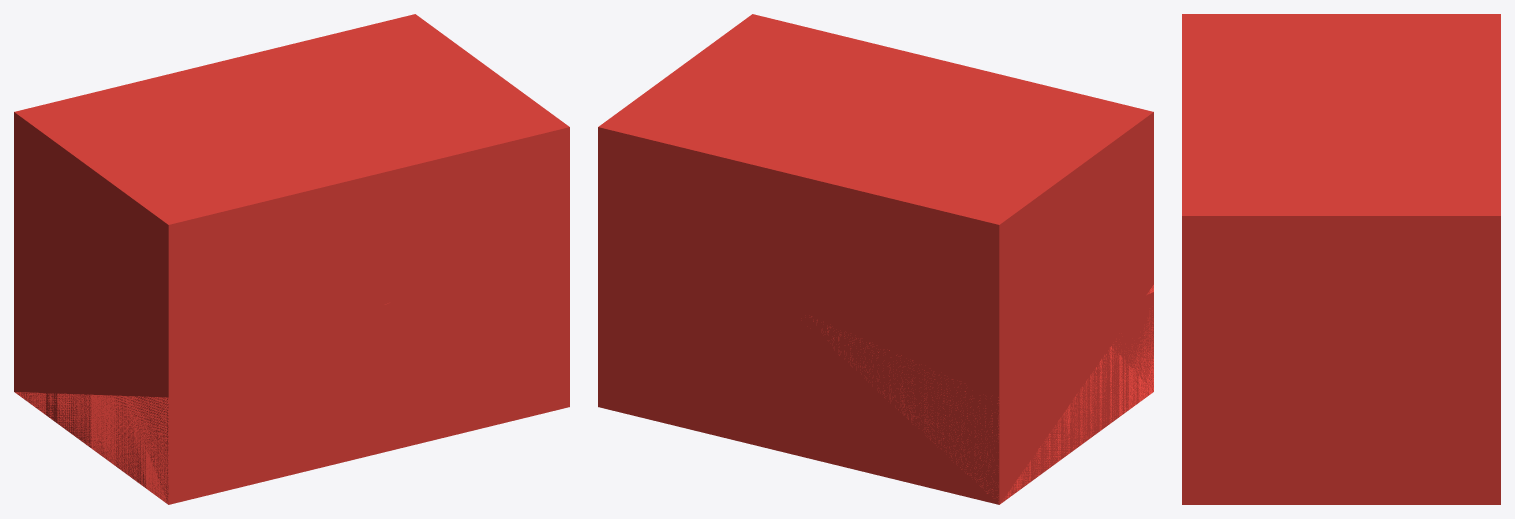
Rendered from fragmented_blockL.glb.
3 renders of one model, left to right at view 1: azimuth 30°, elevation 25°; view 2: azimuth 150°, elevation 25°; view 3: azimuth 270°, elevation 25°, orthographic. The views are drawn at different scales.
Parts seen in each view (by area): view 1: blockL-hit4-Visual, blockL-hit2-Visual, blockL-ColVis.003, blockL-ColVis.005, blockL-ColVis.004, blockL-hit3-Visual, blockL-ColVis.002, blockL-ColVis.008, blockL-ColVis.001, blockL-ColVis.007, blockL-hit1-Visual, blockL-ColVis.006; view 2: blockL-hit4-Visual, blockL-hit1-Visual, blockL-ColVis.005, blockL-ColVis.004, blockL-hit2-Visual, blockL-ColVis.003, blockL-ColVis.006, blockL-ColVis.002, blockL-hit3-Visual, blockL-ColVis.007; view 3: blockL-hit4-Visual, blockL-hit1-Visual, blockL-ColVis.007, blockL-hit2-Visual, blockL-hit3-Visual, blockL-ColVis.006, blockL-ColVis.005, blockL-ColVis.004.
Part boxes in pixels (<box>): blockL-hit4-Visual: <box>14,15,569,504</box>; blockL-hit2-Visual: <box>17,16,559,395</box>; blockL-ColVis.003: <box>14,112,364,397</box>; blockL-ColVis.005: <box>191,14,569,304</box>; blockL-ColVis.004: <box>15,70,367,278</box>; blockL-hit3-Visual: <box>15,114,569,502</box>; blockL-ColVis.002: <box>15,305,382,504</box>; blockL-ColVis.008: <box>353,305,569,459</box>; blockL-ColVis.001: <box>169,305,382,504</box>; blockL-ColVis.007: <box>383,282,569,406</box>; blockL-hit1-Visual: <box>52,21,550,485</box>; blockL-ColVis.006: <box>383,127,569,304</box>; blockL-hit4-Visual: <box>598,17,1153,504</box>; blockL-hit1-Visual: <box>598,128,1152,504</box>; blockL-ColVis.005: <box>598,14,980,304</box>; blockL-ColVis.004: <box>785,70,1153,304</box>; blockL-hit2-Visual: <box>599,17,1153,282</box>; blockL-ColVis.003: <box>786,112,1153,396</box>; blockL-ColVis.006: <box>598,127,771,299</box>; blockL-ColVis.002: <box>805,285,1153,504</box>; blockL-hit3-Visual: <box>1000,117,1153,389</box>; blockL-ColVis.007: <box>598,282,733,406</box>; blockL-hit4-Visual: <box>1182,14,1500,504</box>; blockL-hit1-Visual: <box>1182,14,1500,504</box>; blockL-ColVis.007: <box>1182,375,1500,504</box>; blockL-hit2-Visual: <box>1182,14,1500,504</box>; blockL-hit3-Visual: <box>1182,217,1498,504</box>; blockL-ColVis.006: <box>1182,216,1500,375</box>; blockL-ColVis.005: <box>1182,100,1500,215</box>; blockL-ColVis.004: <box>1182,14,1500,100</box>.
Bounding box in the file's own units: 3 × 2 × 2.
